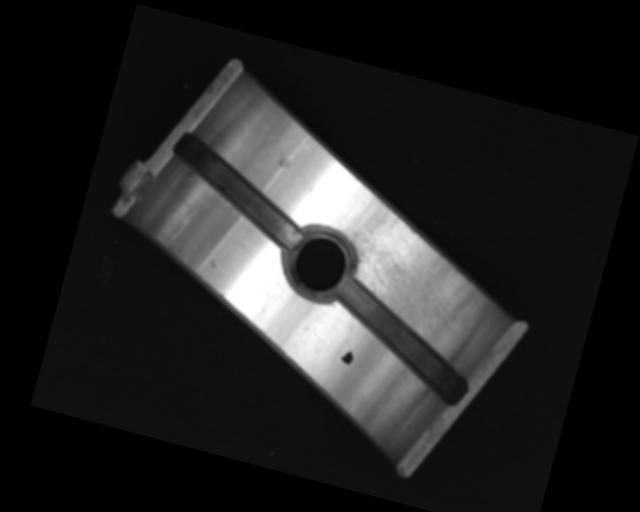blot: (339, 347, 355, 366)
bruise: (275, 151, 294, 171), (208, 258, 220, 269)
gap: (318, 275, 487, 407), (156, 129, 321, 250)
hole: (278, 217, 363, 309)
nick: (161, 203, 196, 252)
scratch: (314, 191, 483, 347)
